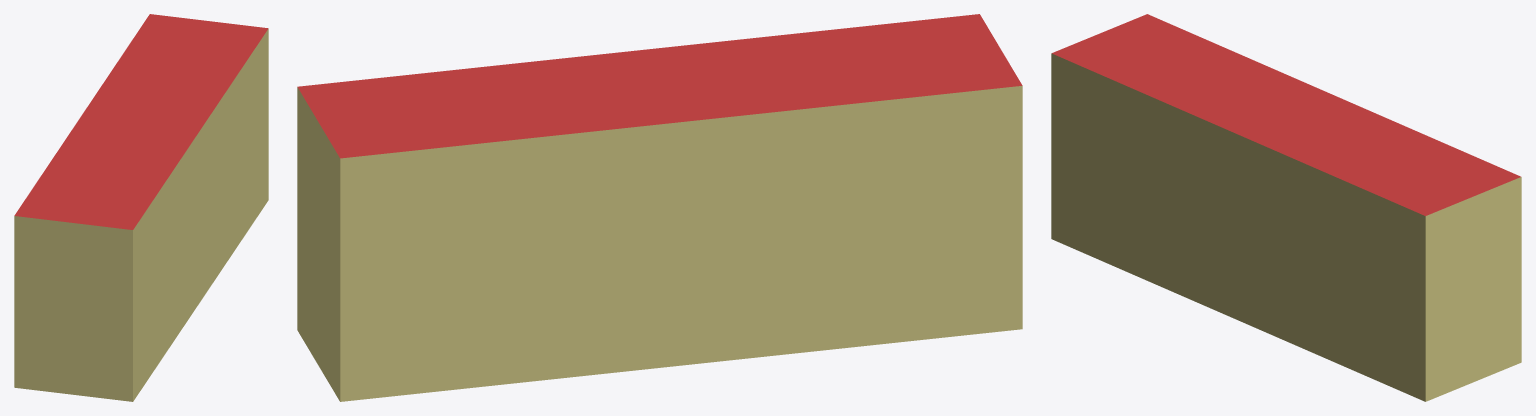
3 renders of one model, left to right at view 1: azimuth 30°, elevation 25°; view 2: azimuth 150°, elevation 25°; view 3: azimuth 270°, elevation 25°, orthographic. The views are drawn at different scales.
Parts seen in each view (by area): view 1: group_4, group_3; view 2: group_4, group_3; view 3: group_4, group_3.
Boxes of the visible parts, x1,y1,x2,y2 form: group_4: [14, 29, 268, 401]; group_3: [14, 14, 268, 229]; group_4: [297, 85, 1022, 401]; group_3: [297, 14, 1022, 158]; group_4: [1051, 53, 1521, 401]; group_3: [1052, 14, 1520, 215].
Size of the model in its own units: 12.15 by 11.94 by 5.21.
